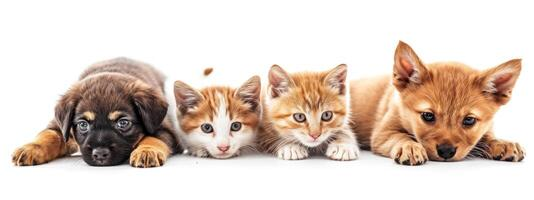cat: (266, 63, 360, 161), (173, 67, 262, 161)
dog: (350, 40, 524, 179), (11, 58, 179, 167)
